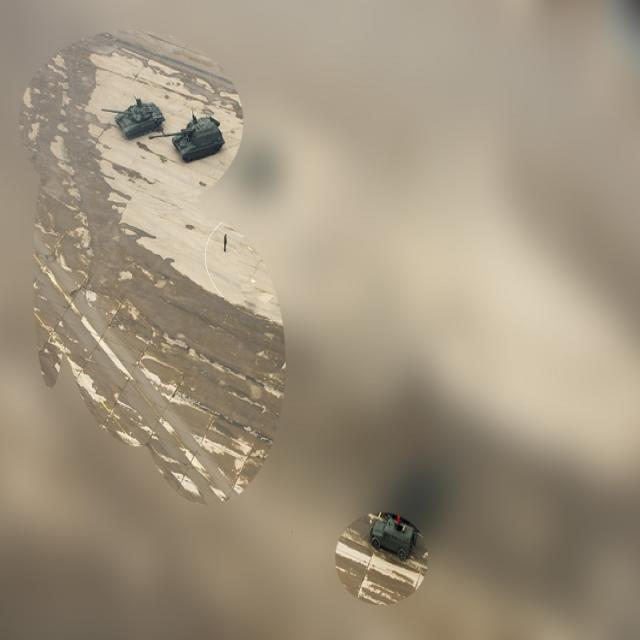tank: (149, 113, 228, 164), (99, 94, 165, 143)
